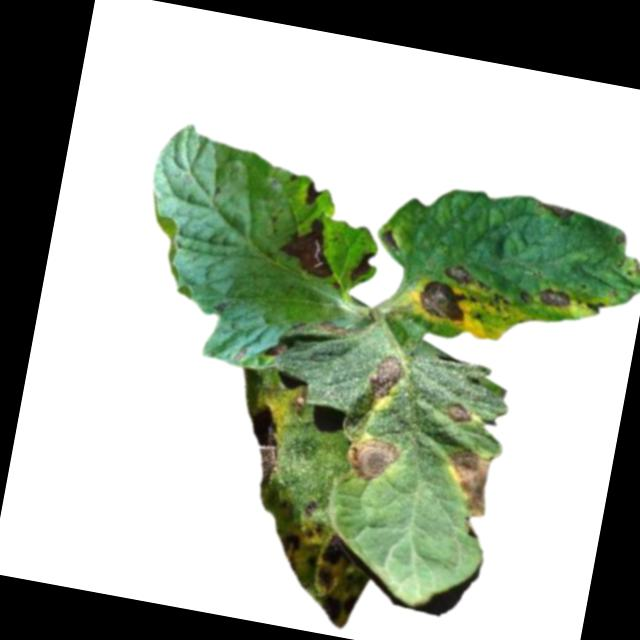Early_blight: (275, 212, 344, 279), (437, 445, 499, 518), (239, 403, 289, 489), (307, 566, 367, 632), (415, 278, 478, 328), (344, 433, 401, 486), (365, 350, 409, 403), (276, 532, 303, 573), (320, 529, 349, 567), (350, 248, 379, 283), (315, 317, 359, 339), (537, 285, 572, 311), (441, 261, 477, 286), (444, 399, 473, 426), (534, 200, 575, 219), (265, 335, 293, 360), (302, 179, 322, 208), (582, 295, 606, 316)
